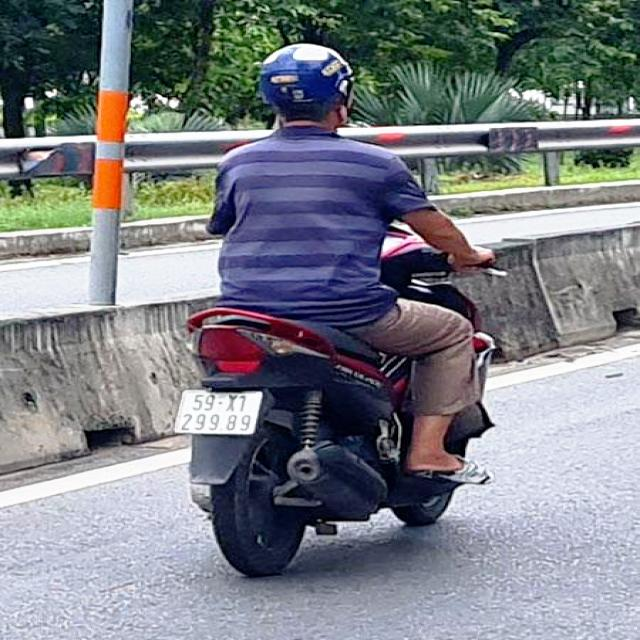license_plate: (175, 389, 262, 435)
